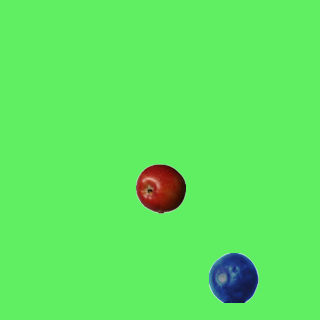Apple Braeburn: (135, 163, 185, 213)
Huckleberry: (208, 252, 258, 302)
